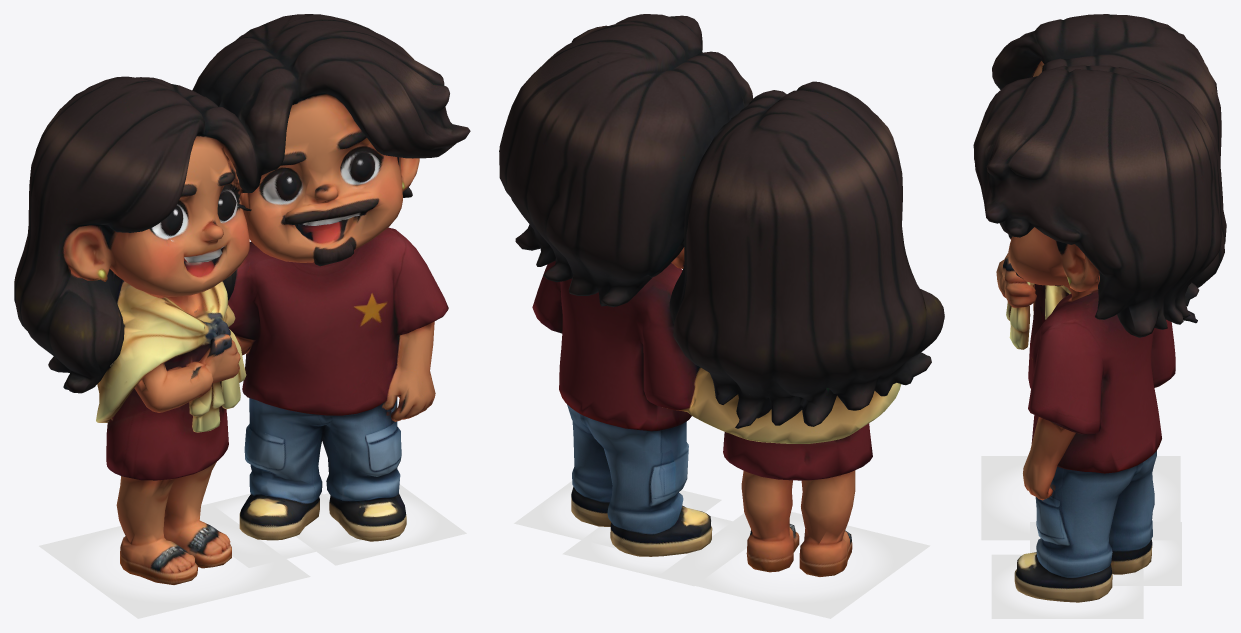
The picture shows the model from 3 angles, left to right: view 1: azimuth 30°, elevation 25°; view 2: azimuth 150°, elevation 25°; view 3: azimuth 270°, elevation 25°; orthographic projection.
Parts seen in each view (by area): view 1: tripo_node_fdaa40e3, Plane, Plane.001, Plane.002; view 2: tripo_node_fdaa40e3, Plane, Plane.002, Plane.001; view 3: tripo_node_fdaa40e3, Plane, Plane.001, Plane.002.
Part boxes in pixels (bbox=[...]): tripo_node_fdaa40e3: bbox=[14, 14, 470, 584]; Plane: bbox=[39, 504, 310, 618]; Plane.001: bbox=[295, 484, 466, 565]; Plane.002: bbox=[201, 493, 363, 567]; tripo_node_fdaa40e3: bbox=[499, 14, 944, 576]; Plane: bbox=[659, 511, 930, 618]; Plane.002: bbox=[562, 516, 750, 586]; Plane.001: bbox=[514, 481, 721, 548]; tripo_node_fdaa40e3: bbox=[973, 14, 1226, 602]; Plane: bbox=[981, 456, 1180, 540]; Plane.001: bbox=[991, 554, 1143, 618]; Plane.002: bbox=[1030, 522, 1181, 585].
Bounding box in the file's own units: 1.38 × 1.59 × 0.7391.
Materials: 2 (2 with a texture image).
